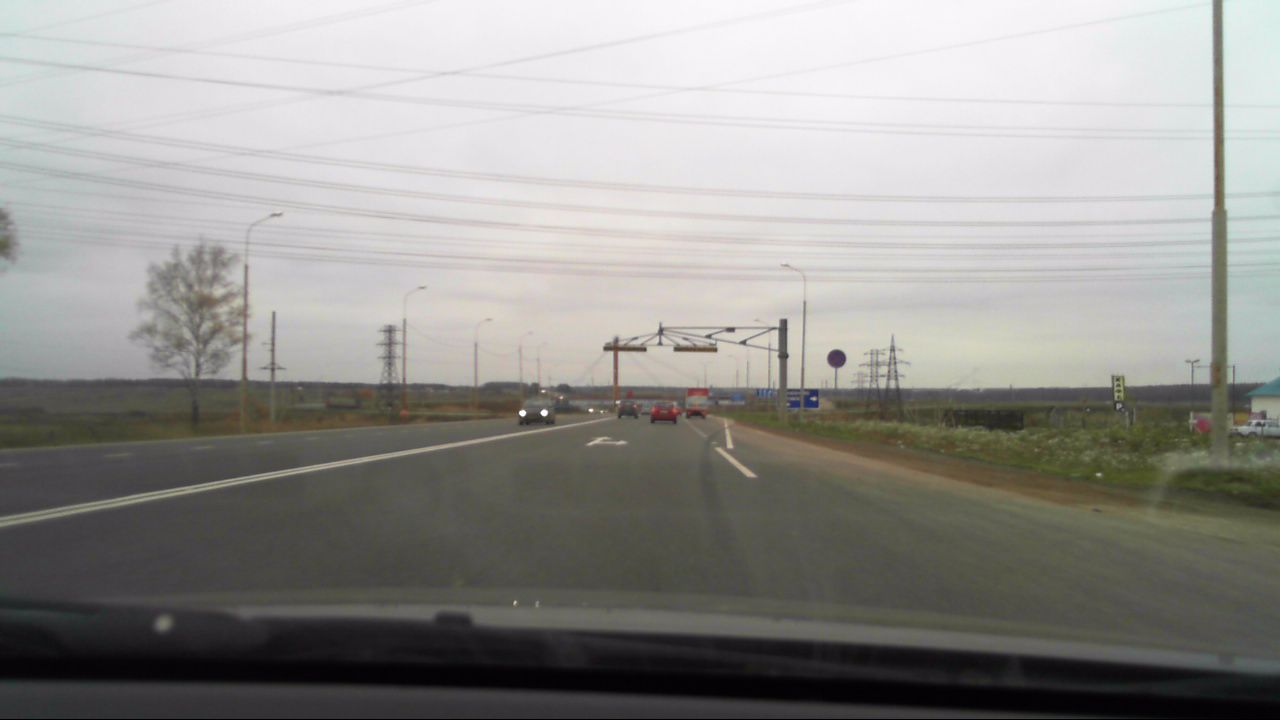No Parking: (822, 349, 848, 373)
